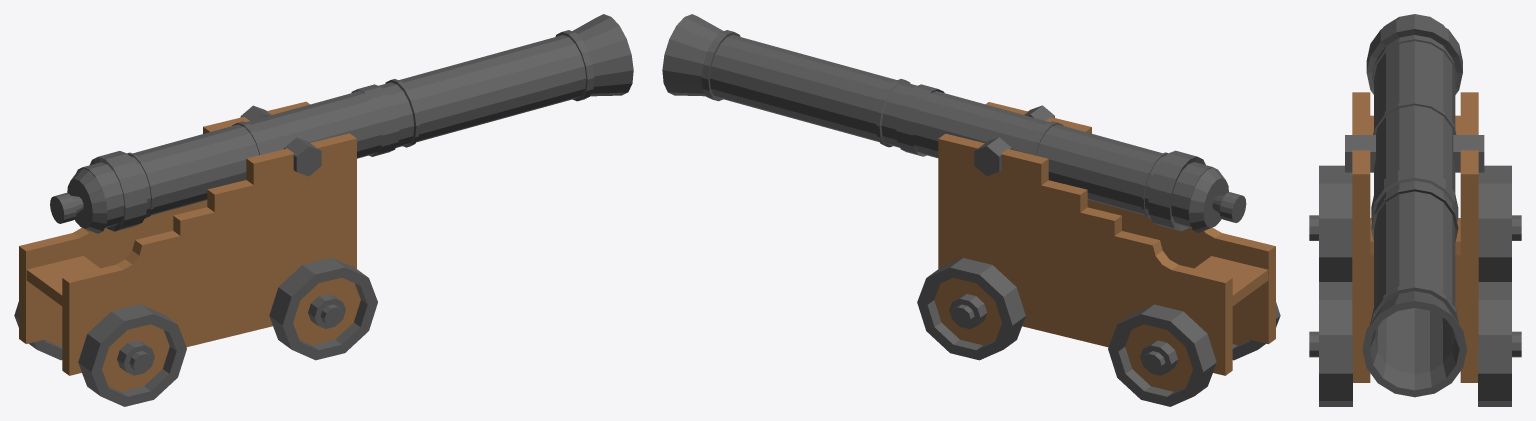
Rendered from cannon.glb.
3 views of the same model, side by side, from view 1: azimuth 30°, elevation 25°; view 2: azimuth 150°, elevation 25°; view 3: azimuth 270°, elevation 25° (orthographic). The views are drawn at different scales.
Parts seen in each view (by area): view 1: frame, barrel, wheels, lid, holder; view 2: frame, barrel, wheels, lid, holder; view 3: barrel, wheels, frame, holder.
Boxes of the visible parts, <box> form: frame: <box>19,101,356,375</box>; barrel: <box>76,14,633,231</box>; wheels: <box>14,257,377,406</box>; lid: <box>50,168,107,233</box>; holder: <box>240,105,321,176</box>; frame: <box>938,102,1275,375</box>; barrel: <box>662,14,1217,231</box>; wheels: <box>917,258,1280,406</box>; lid: <box>1188,167,1246,232</box>; holder: <box>974,105,1054,175</box>; barrel: <box>1362,14,1466,397</box>; wheels: <box>1309,165,1521,406</box>; frame: <box>1352,92,1478,382</box>; holder: <box>1345,135,1484,172</box>.
Bounding box in the file's own units: 6.92 × 2.71 × 1.79.
